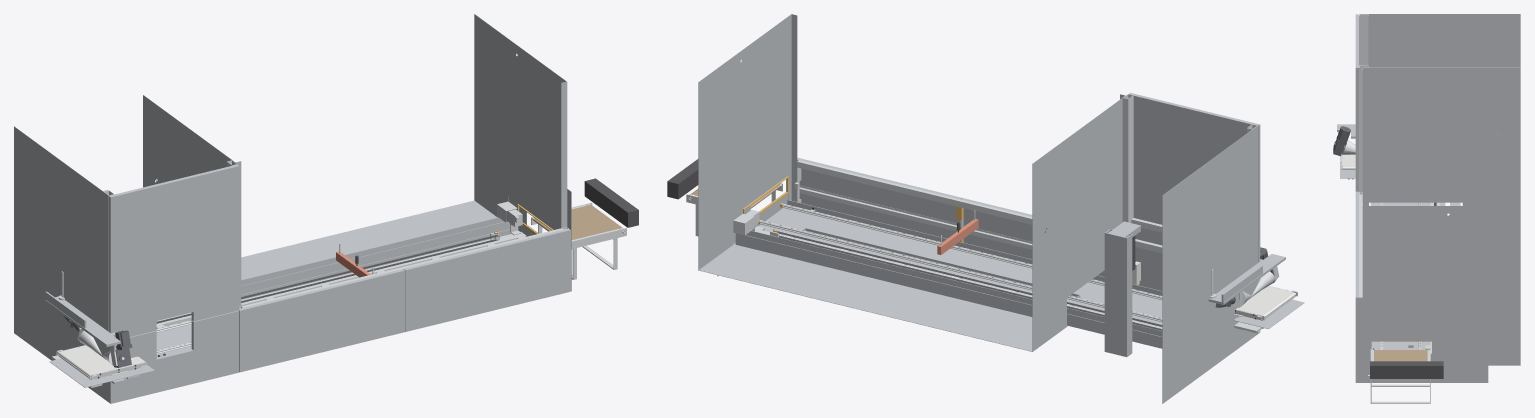
The model's file is bantli_tabla_v1.glb.
3 views of the same model, side by side, from view 1: azimuth 30°, elevation 25°; view 2: azimuth 150°, elevation 25°; view 3: azimuth 270°, elevation 25° (orthographic). The views are drawn at different scales.
Parts seen in each view (by area): view 1: SABIT__AK_onyuz_servis_kapagi, SABIT__AK_a_govde_sol_yan, SABIT__dis_yan_sag, SABIT__onyuz_mekanizma_kanadi_sol, SABIT__onyuz_mekanizma_kanadi_sag, SABIT__AK_onyuz_alt_panel, SABIT__dis_taban, SABIT__dis_yan_sol, SABIT__enerji_zinciri_kanali, SABIT__mekanizma_teknesi, SABIT__kayis_kirisi, FIRIN__firin_giris_duvari (+7 smaller); view 2: SABIT__AK_a_govde_sol_yan, SABIT__dis_yan_sag, SABIT__dis_yan_sol, SABIT__dis_taban, SABIT__AK_onyuz_servis_kapagi, SABIT__mekanizma_teknesi, SABIT__enerji_zinciri_kanali, SABIT__onyuz_mekanizma_kanadi_sag, SABIT__acici_kolonu, SABIT__onyuz_mekanizma_kanadi_sol, SABIT__onyuz_cerceve_mek_ust_kayit, SABIT__lineer_ray_arka (+12 smaller); view 3: SABIT__dis_yan_sol, SABIT__dis_yan_sag, SABIT__AK_a_govde_sol_yan, FIRIN__firin_on_kabuk_ust, FIRIN__firin_on_kabuk_alt, FIRIN__firin_giris_duvari, FIRIN__firin_on_kabuk_arka, SABIT__AK_onyuz_servis_kapagi, SABIT__mekanizma_teknesi, YB_BANT__yukleme_bandi, SABIT__AK_onyuz_cerceve_sag_dikme, SABIT__AK_onyuz_cerceve_sol_dikme (+5 smaller).
Boxes of the visible parts, <box> form: SABIT__AK_onyuz_servis_kapagi: <box>109,164,239,337</box>; SABIT__AK_a_govde_sol_yan: <box>14,126,108,401</box>; SABIT__dis_yan_sag: <box>474,14,567,229</box>; SABIT__onyuz_mekanizma_kanadi_sol: <box>239,269,405,372</box>; SABIT__onyuz_mekanizma_kanadi_sag: <box>403,228,570,331</box>; SABIT__AK_onyuz_alt_panel: <box>108,310,239,403</box>; SABIT__dis_taban: <box>241,200,497,279</box>; SABIT__dis_yan_sol: <box>143,95,241,306</box>; SABIT__enerji_zinciri_kanali: <box>241,217,510,294</box>; SABIT__mekanizma_teknesi: <box>156,229,511,356</box>; SABIT__kayis_kirisi: <box>156,232,526,326</box>; FIRIN__firin_giris_duvari: <box>584,178,638,227</box>; SABIT__AK_a_govde_sol_yan: <box>1162,126,1257,403</box>; SABIT__dis_yan_sag: <box>698,14,797,269</box>; SABIT__dis_yan_sol: <box>1032,94,1125,351</box>; SABIT__dis_taban: <box>698,208,1067,351</box>; SABIT__AK_onyuz_servis_kapagi: <box>1129,93,1260,262</box>; SABIT__mekanizma_teknesi: <box>759,200,1162,327</box>; SABIT__enerji_zinciri_kanali: <box>735,230,1162,348</box>; SABIT__onyuz_mekanizma_kanadi_sag: <box>797,157,962,238</box>; SABIT__acici_kolonu: <box>1104,221,1140,356</box>; SABIT__onyuz_mekanizma_kanadi_sol: <box>961,198,1104,276</box>; SABIT__onyuz_cerceve_mek_ust_kayit: <box>797,160,1046,228</box>; SABIT__lineer_ray_arka: <box>760,220,1162,321</box>; SABIT__dis_yan_sol: <box>1362,67,1520,205</box>; SABIT__dis_yan_sag: <box>1362,204,1520,365</box>; SABIT__AK_a_govde_sol_yan: <box>1368,14,1520,134</box>; FIRIN__firin_on_kabuk_ust: <box>1355,297,1488,341</box>; FIRIN__firin_on_kabuk_alt: <box>1355,353,1488,382</box>; FIRIN__firin_giris_duvari: <box>1370,361,1443,378</box>; FIRIN__firin_on_kabuk_arka: <box>1432,341,1488,353</box>; SABIT__AK_onyuz_servis_kapagi: <box>1355,14,1358,191</box>; SABIT__mekanizma_teknesi: <box>1370,202,1445,349</box>; YB_BANT__yukleme_bandi: <box>1374,350,1427,361</box>; SABIT__AK_onyuz_cerceve_sag_dikme: <box>1359,65,1368,191</box>; SABIT__AK_onyuz_cerceve_sol_dikme: <box>1359,14,1368,65</box>.
Bounding box in the file's own units: 3.1 × 1.07 × 1.03.
